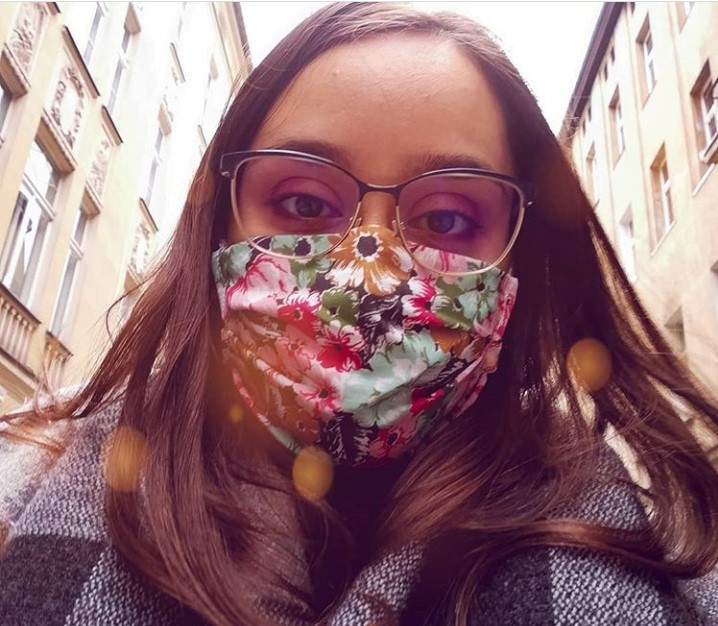face_with_mask: (215, 10, 533, 472)
